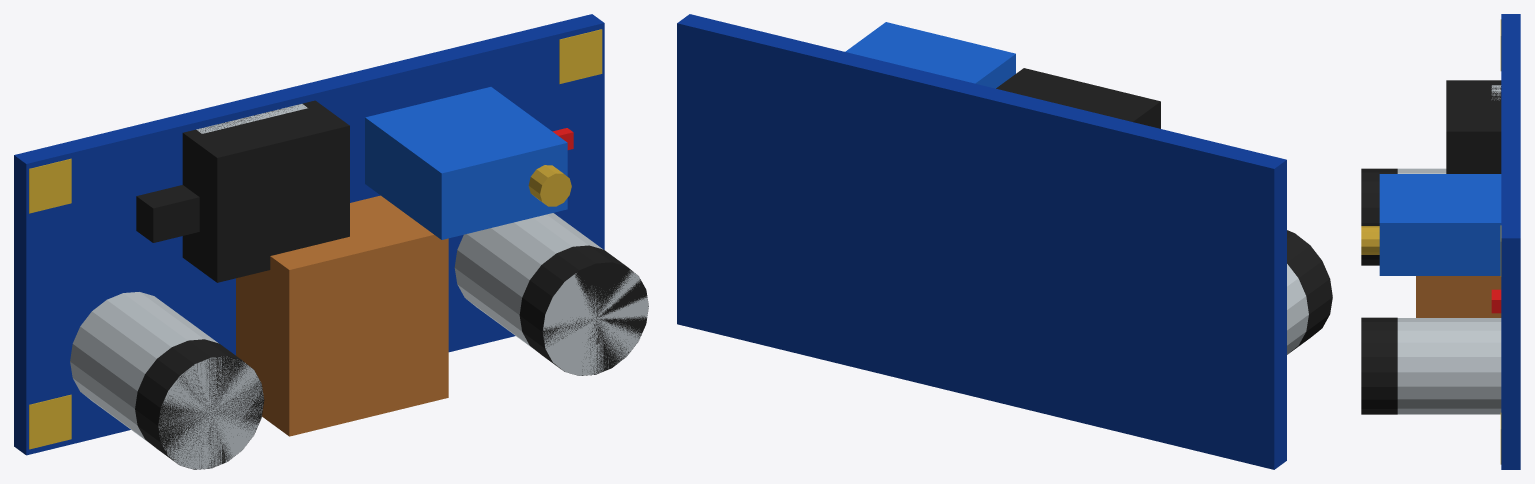
File: lm2596_buck_module.obj
The picture shows the model from 3 angles, left to right: view 1: azimuth 30°, elevation 25°; view 2: azimuth 150°, elevation 25°; view 3: azimuth 270°, elevation 25°; orthographic projection. The views are drawn at different scales.
Bounding box in the file's own units: 43.6 × 21 × 13.1.
